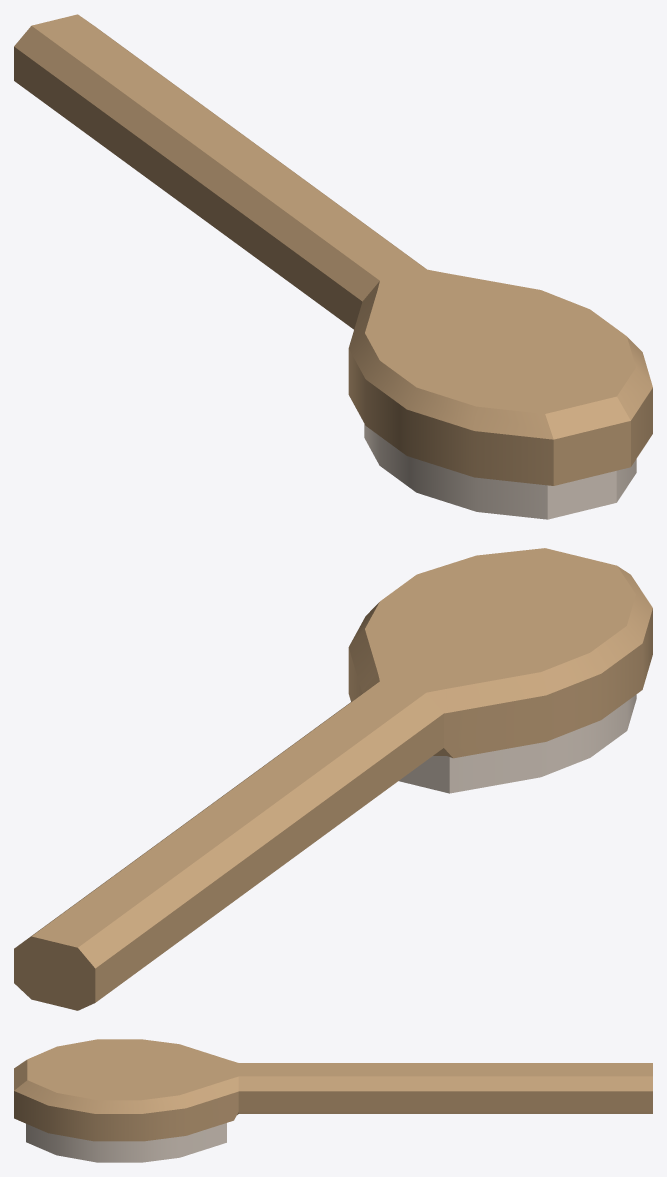
Rendered from Gammal_Borste.fbx.
3 views of the same model, one above another, from view 1: azimuth 30°, elevation 25°; view 2: azimuth 150°, elevation 25°; view 3: azimuth 270°, elevation 25° (orthographic). The views are drawn at different scales.
Visible parts, largest first — view 1: pCube11; view 2: pCube11; view 3: pCube11.
Part boxes in pixels (x1,y1,x2,y2): pCube11: (14, 14, 652, 519); pCube11: (14, 548, 652, 1010); pCube11: (14, 1039, 652, 1162).
Size of the model in its own units: 0.6113 by 0.2603 by 2.42.
